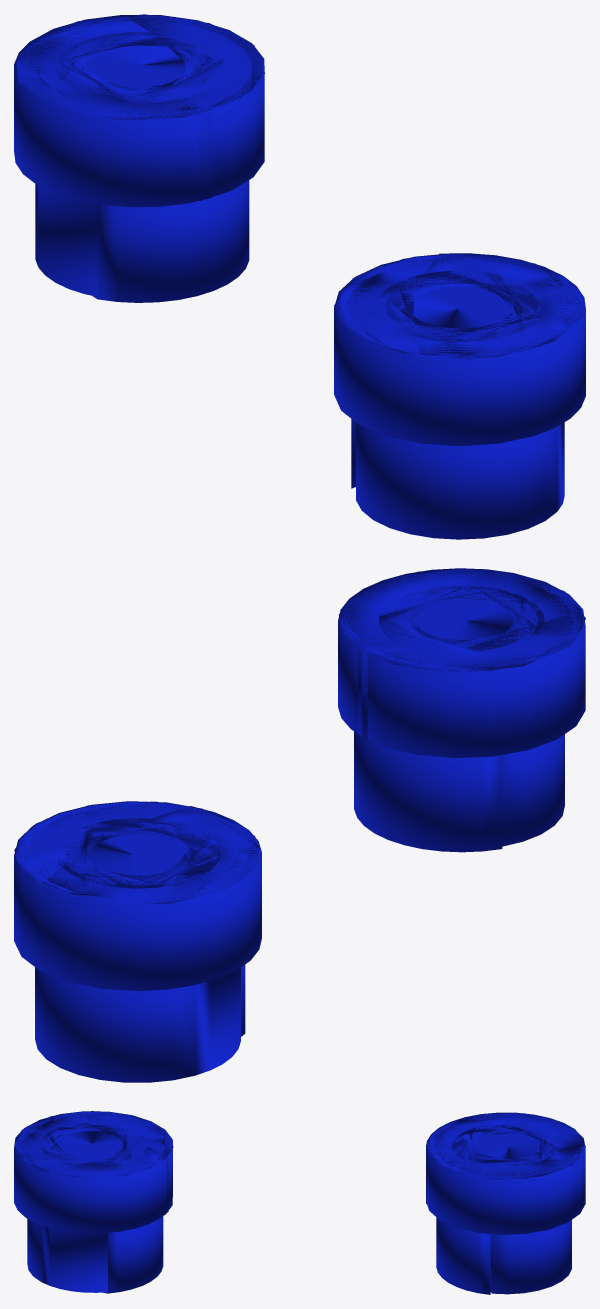
The model's file is tuyeau_element_000055.obj.
The picture shows the model from 3 angles, top to bottom: view 1: azimuth 30°, elevation 25°; view 2: azimuth 150°, elevation 25°; view 3: azimuth 270°, elevation 25°; orthographic projection. The views are drawn at different scales.
Visible parts, largest first — view 1: tuyeau1_Cube.014, tuyeau2_Cube.017; view 2: tuyeau2_Cube.017, tuyeau1_Cube.014; view 3: tuyeau1_Cube.014, tuyeau2_Cube.017.
Part boxes in pixels (<box>): tuyeau1_Cube.014: <box>14,14,264,302</box>; tuyeau2_Cube.017: <box>334,253,585,539</box>; tuyeau2_Cube.017: <box>338,568,585,852</box>; tuyeau1_Cube.014: <box>14,801,261,1082</box>; tuyeau1_Cube.014: <box>426,1112,585,1294</box>; tuyeau2_Cube.017: <box>14,1111,173,1293</box>.
Size of the model in its own units: 3600 by 2917 by 12606.
